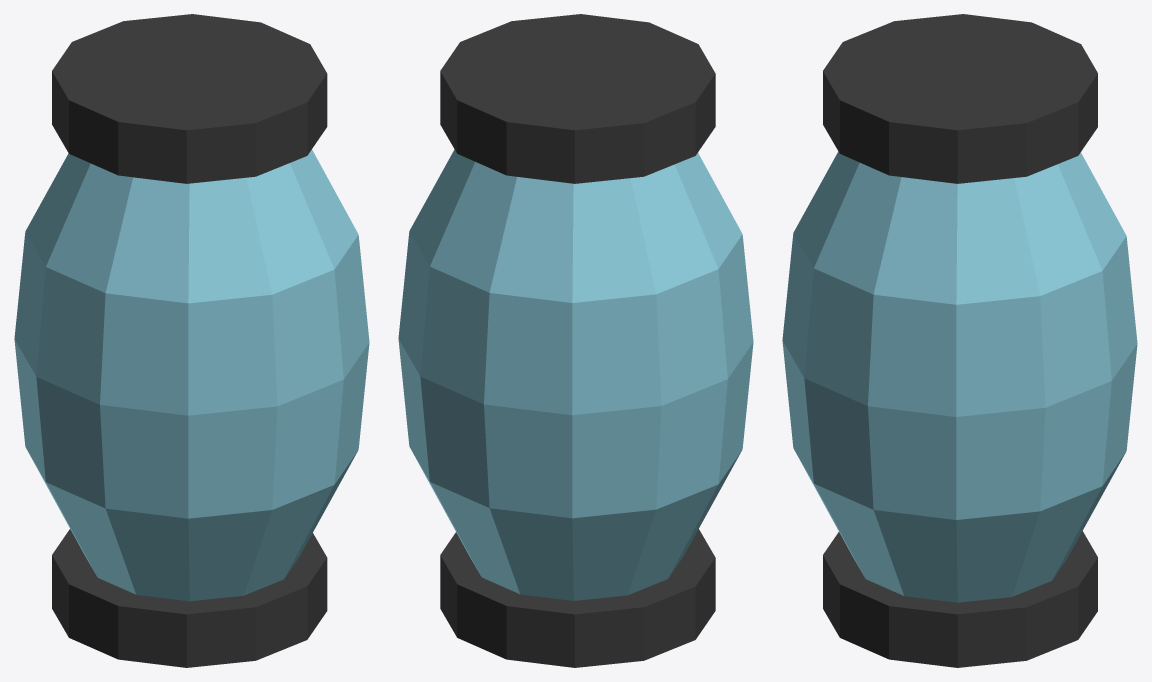
Rendered from GlassDecorationSmallSpecimenJar2.fbx.
The picture shows the model from 3 angles, left to right: view 1: azimuth 30°, elevation 25°; view 2: azimuth 150°, elevation 25°; view 3: azimuth 270°, elevation 25°; orthographic projection.
Visible parts, largest first — view 1: GlassDecorationSmallSpecimenJar2; view 2: GlassDecorationSmallSpecimenJar2; view 3: GlassDecorationSmallSpecimenJar2.
Part boxes in pixels (x1,y1,x2,y2): GlassDecorationSmallSpecimenJar2: (14, 14, 369, 667); GlassDecorationSmallSpecimenJar2: (398, 14, 753, 667); GlassDecorationSmallSpecimenJar2: (782, 14, 1137, 667).
Size of the model in its own units: 62.47 by 104 by 62.47.
Materials: 5 (5 with a texture image).
